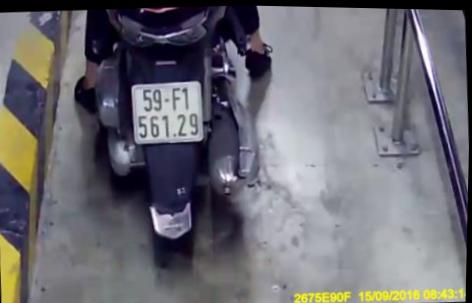LP: (130, 78, 206, 146)
